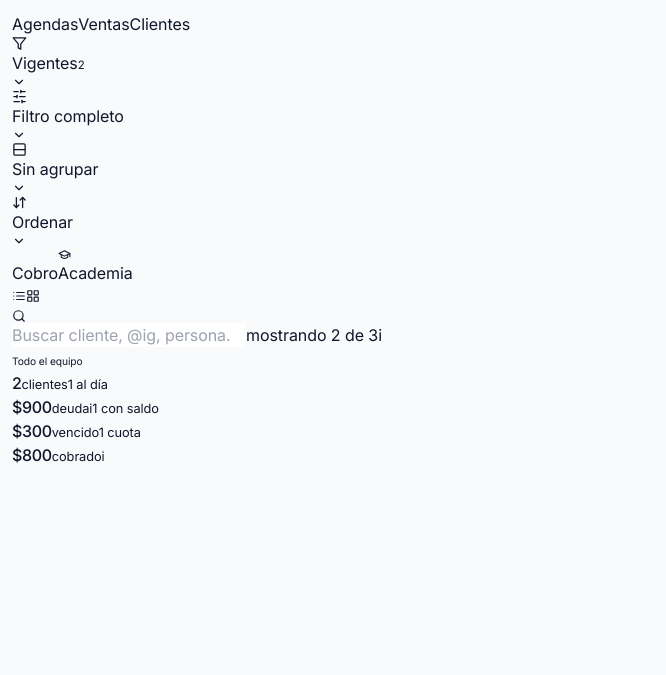
Test case: Clientes · los dados de baja › se ven en su propio filtro, con cuándo y por qué se fueron
Click the button "Vigentes2" at (48, 62), box [12,36,85,89]
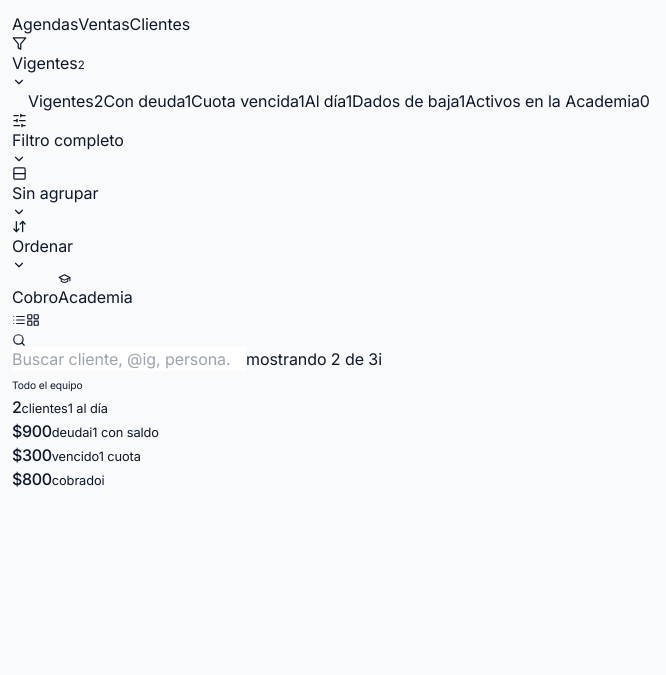
Click the menu item "Dados de baja1" at (409, 101), box [352,89,465,113]
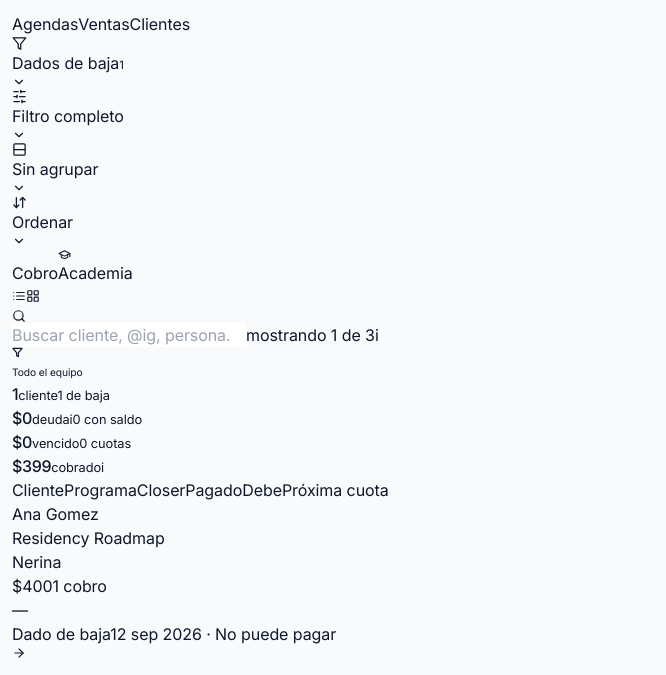
Result: the text "12 sep 2026 · No puede pagar" is shown at [110,624,336,644]
Result: the text "Dado de baja" is shown at [12,624,110,644]
